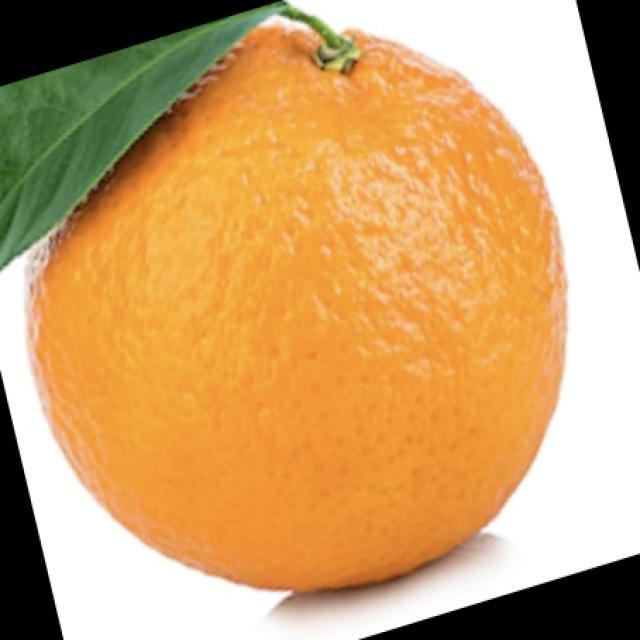matang: (29, 24, 566, 590)
